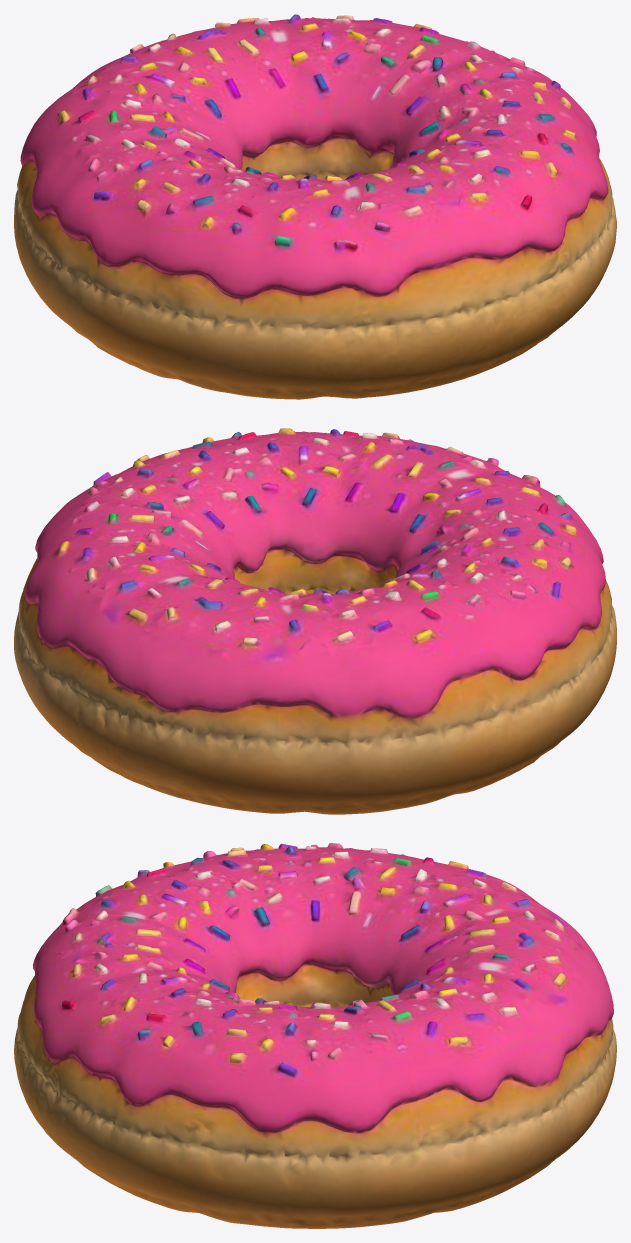
The picture shows the model from 3 angles, top to bottom: view 1: azimuth 30°, elevation 25°; view 2: azimuth 150°, elevation 25°; view 3: azimuth 270°, elevation 25°; orthographic projection.
Bounding box in the file's own units: 1.9 × 0.702 × 1.9.
Materials: 1 (1 with a texture image).
